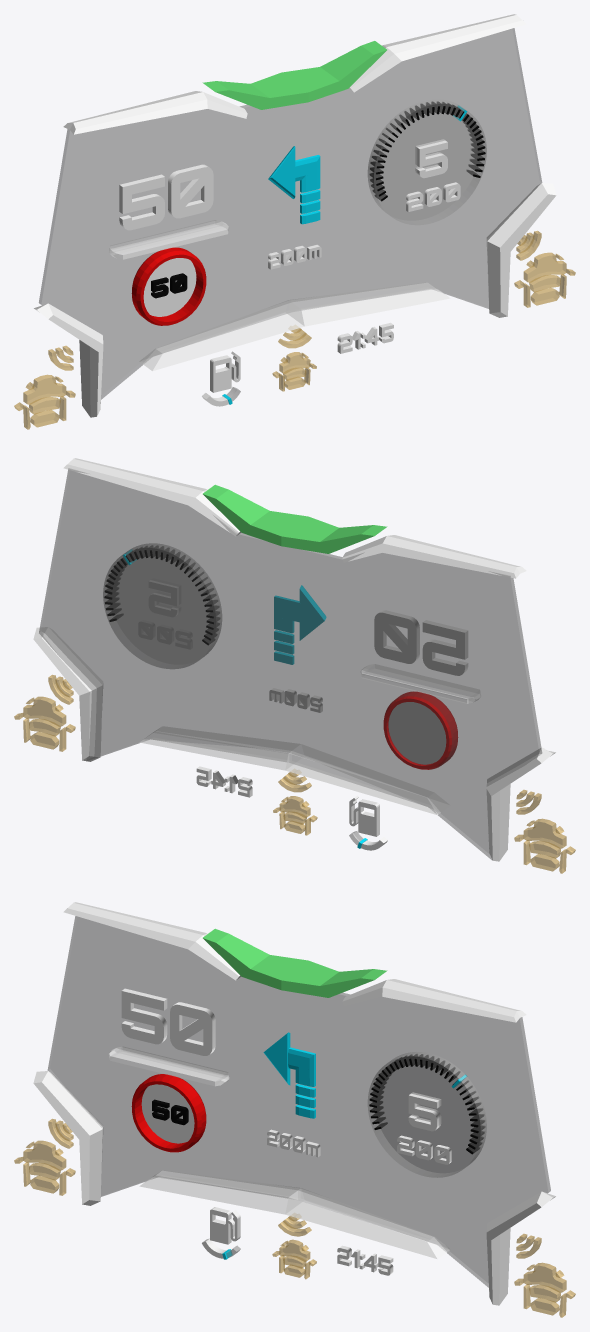
File: ComplexUI.gltf
3 renders of one model, top to bottom at view 1: azimuth 30°, elevation 25°; view 2: azimuth 150°, elevation 25°; view 3: azimuth 330°, elevation 25°, orthographic.
Visible parts, largest first — view 1: Plane.007, Cylinder_002_1, BottomBar_001_1, SideBars_001_1, TopSideBars_001_1, TopBar_001_1, SpeedText, Layer_001_001_1, Layer_001_003, Cube_001, SpeedLimit_001_1, MiddleSeperator_001_1 (+10 smaller); view 2: Plane.007, Cylinder_002_1, BottomBar_001_1, SideBars_001_1, TopSideBars_001_1, TopBar_001_1, SpeedText, Circle.001, Layer_001_001_1, Layer_001_003, Cube_001, MiddleSeperator_001_1 (+9 smaller); view 3: Plane.007, Cylinder_002_1, BottomBar_001_1, SideBars_001_1, TopSideBars_001_1, TopBar_001_1, SpeedText, Layer_001_003, Layer_001_001_1, SpeedLimit_001_1, Cube_001, MiddleSeperator_001_1 (+11 smaller).
Part boxes in pixels (left/top/right/bottom): Plane.007: left=39, top=28, right=542, bottom=399; Cylinder_002_1: left=367, top=99, right=486, bottom=225; BottomBar_001_1: left=139, top=282, right=450, bottom=371; SideBars_001_1: left=34, top=183, right=556, bottom=417; TopSideBars_001_1: left=63, top=14, right=526, bottom=134; TopBar_001_1: left=202, top=41, right=386, bottom=109; SpeedText: left=119, top=164, right=213, bottom=230; Layer_001_001_1: left=514, top=230, right=575, bottom=307; Layer_001_003: left=14, top=345, right=75, bottom=429; Cube_001: left=369, top=101, right=485, bottom=201; SpeedLimit_001_1: left=131, top=247, right=206, bottom=325; MiddleSeperator_001_1: left=108, top=220, right=229, bottom=259; Plane.007: left=39, top=468, right=542, bottom=860; Cylinder_002_1: left=103, top=543, right=221, bottom=668; BottomBar_001_1: left=139, top=726, right=450, bottom=815; SideBars_001_1: left=33, top=627, right=555, bottom=861; TopSideBars_001_1: left=63, top=458, right=526, bottom=578; TopBar_001_1: left=203, top=484, right=387, bottom=553; SpeedText: left=374, top=610, right=467, bottom=675; Circle.001: left=389, top=702, right=445, bottom=764; Layer_001_001_1: left=14, top=674, right=75, bottom=751; Layer_001_003: left=514, top=789, right=575, bottom=873; Cube_001: left=104, top=546, right=219, bottom=645; MiddleSeperator_001_1: left=360, top=664, right=480, bottom=703; Plane.007: left=47, top=916, right=550, bottom=1287; Cylinder_002_1: left=367, top=1052, right=486, bottom=1177; BottomBar_001_1: left=139, top=1170, right=450, bottom=1259; SideBars_001_1: left=33, top=1071, right=555, bottom=1305; TopSideBars_001_1: left=63, top=902, right=526, bottom=1022; TopBar_001_1: left=203, top=928, right=387, bottom=997; SpeedText: left=121, top=988, right=215, bottom=1055; Layer_001_003: left=14, top=1118, right=75, bottom=1195; Layer_001_001_1: left=514, top=1233, right=575, bottom=1317; SpeedLimit_001_1: left=131, top=1074, right=206, bottom=1152; Cube_001: left=369, top=1054, right=484, bottom=1154; MiddleSeperator_001_1: left=108, top=1046, right=229, bottom=1086.
Bounding box in the file's own units: 0.3306 × 0.1814 × 0.0279.
